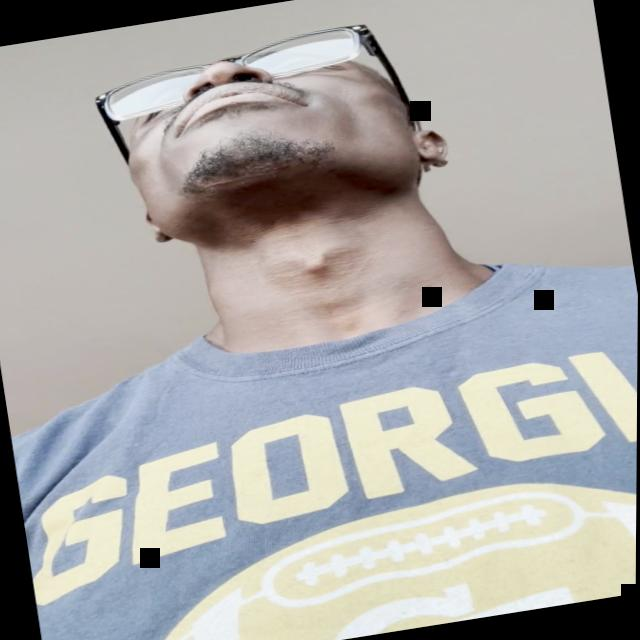NO-Mask: (99, 19, 447, 262)
